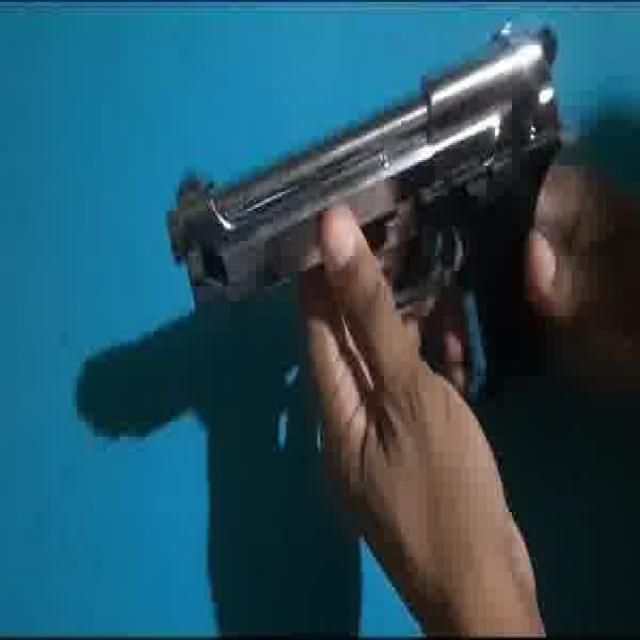weapon: (163, 18, 565, 430)
